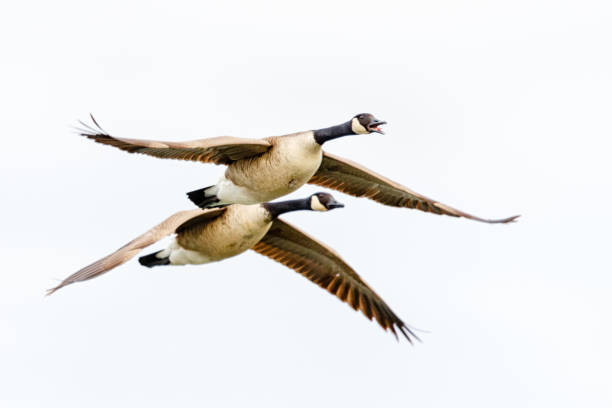goose: (37, 189, 424, 346), (75, 108, 523, 224)
